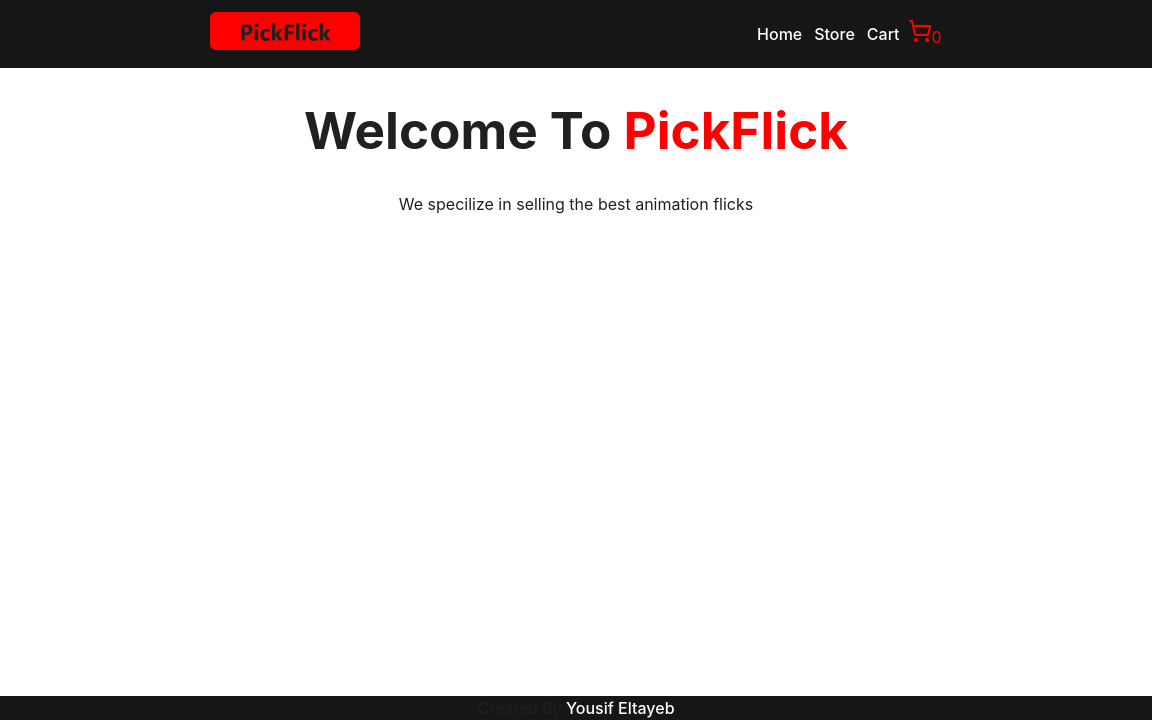
Test case: Navigating › full app rendering/navigating
Expected: the element "Welcome" is shown, [304,99,848,214]
Click the link "Store" at [834, 34], box [814,22,855,46]
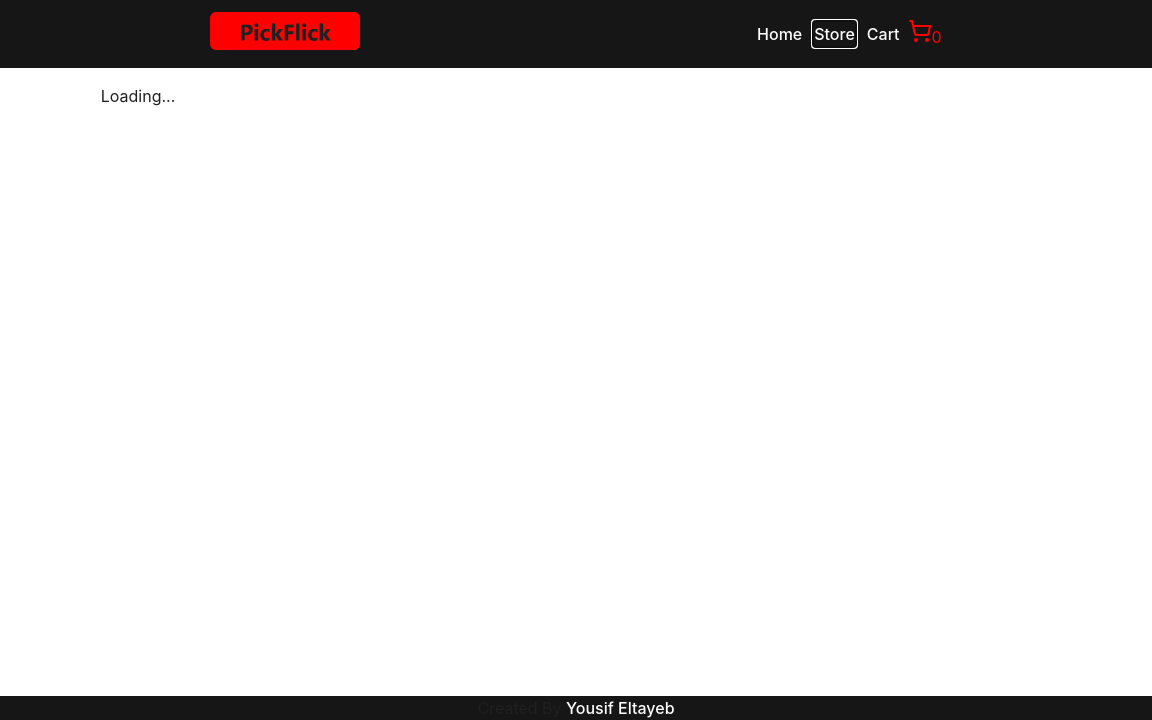
Expected: the heading "Welcome" is gone
Expected: the text "Loading..." is shown, [101,86,175,106]
Click the link "Cart" at [883, 34], box [867,22,900,46]
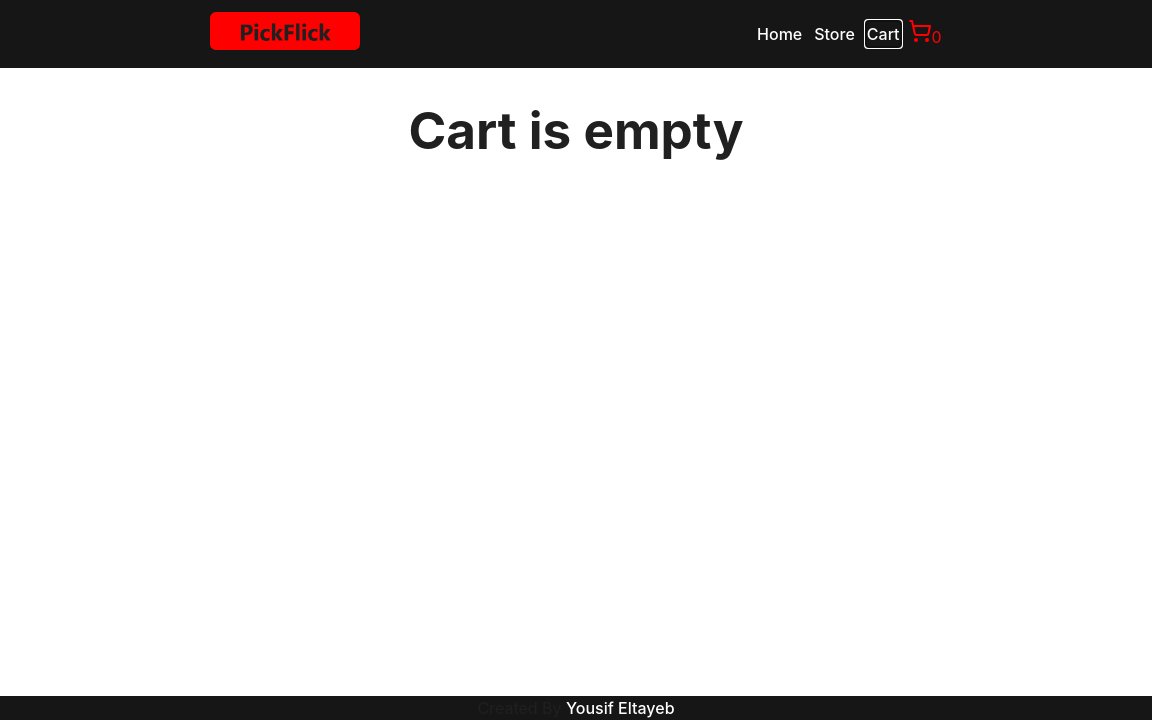
Expected: the heading "Welcome" is not shown
Expected: the element "Cart" is shown, [394,99,758,224]
